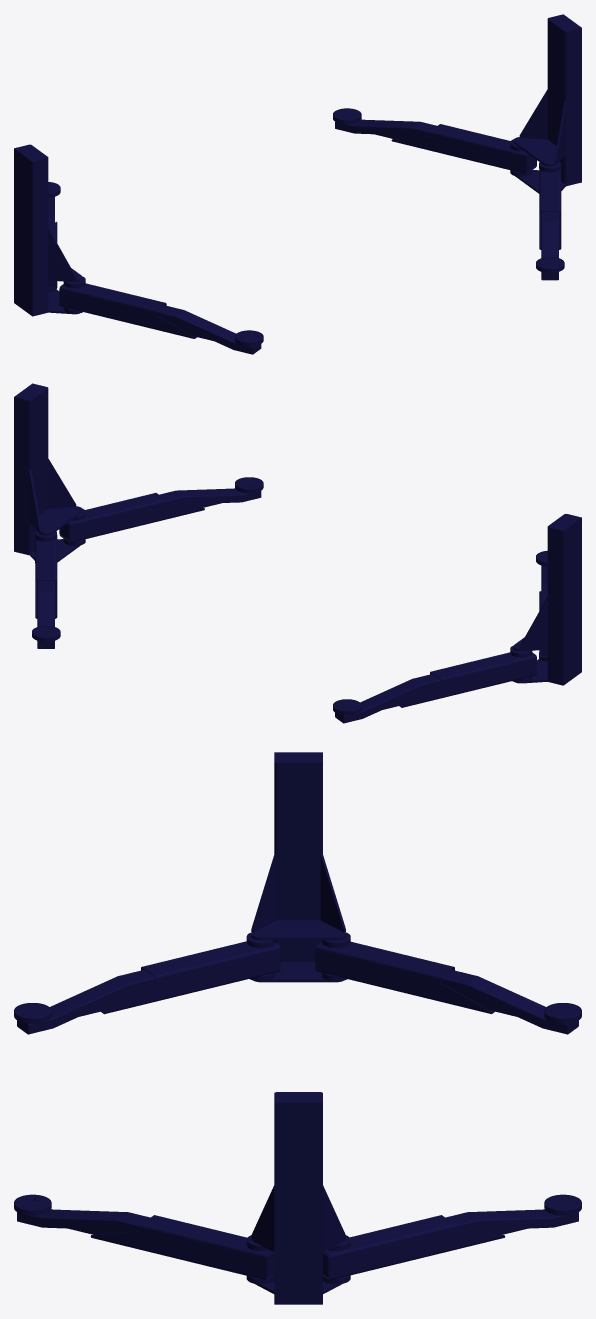
Rendered from UpPart.FBX.
The picture shows the model from 3 angles, top to bottom: view 1: azimuth 30°, elevation 25°; view 2: azimuth 150°, elevation 25°; view 3: azimuth 270°, elevation 25°; orthographic projection. The views are drawn at different scales.
Parts seen in each view (by area): view 1: up, LeftUp, RightBUp, LeftBUp, RightUp; view 2: up, RightUp, LeftBUp, RightBUp, LeftUp; view 3: up, LeftUp, RightUp, LeftBUp, RightBUp.
Part boxes in pixels (box(x1,y1,x2,y2)): up: box(14, 14, 581, 316); LeftUp: box(59, 283, 263, 354); RightBUp: box(333, 108, 536, 173); LeftBUp: box(536, 166, 564, 280); RightUp: box(48, 182, 60, 289); up: box(14, 383, 581, 685); RightUp: box(333, 652, 536, 723); LeftBUp: box(59, 477, 263, 542); RightBUp: box(32, 535, 60, 648); LeftUp: box(536, 550, 547, 657); up: box(246, 752, 350, 1304); LeftUp: box(14, 941, 280, 1034); RightUp: box(315, 941, 581, 1034); LeftBUp: box(14, 1194, 274, 1280); RightBUp: box(323, 1194, 581, 1280).
Size of the model in its own units: 57.26 by 15.4 by 39.24.
